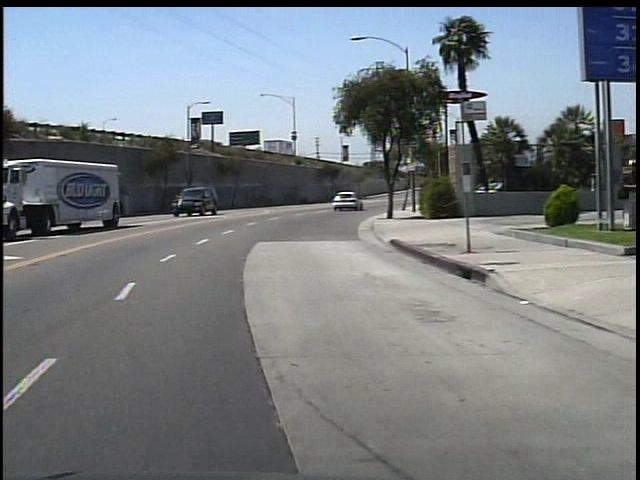person: (609, 155, 636, 234)
